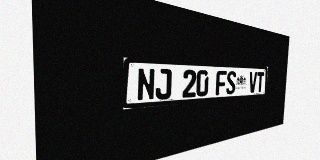0: (196, 70, 209, 97)
2: (182, 69, 196, 98)
F: (215, 70, 227, 95)
J: (155, 68, 172, 100)
N: (137, 68, 155, 101)
S: (226, 71, 236, 94)
T: (256, 72, 264, 92)
V: (248, 72, 257, 93)
